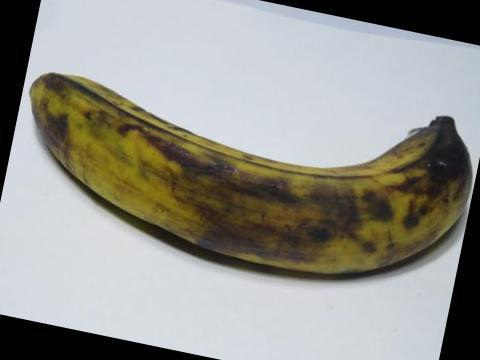overripe: (27, 56, 479, 320)
rotten: (403, 106, 479, 224)
